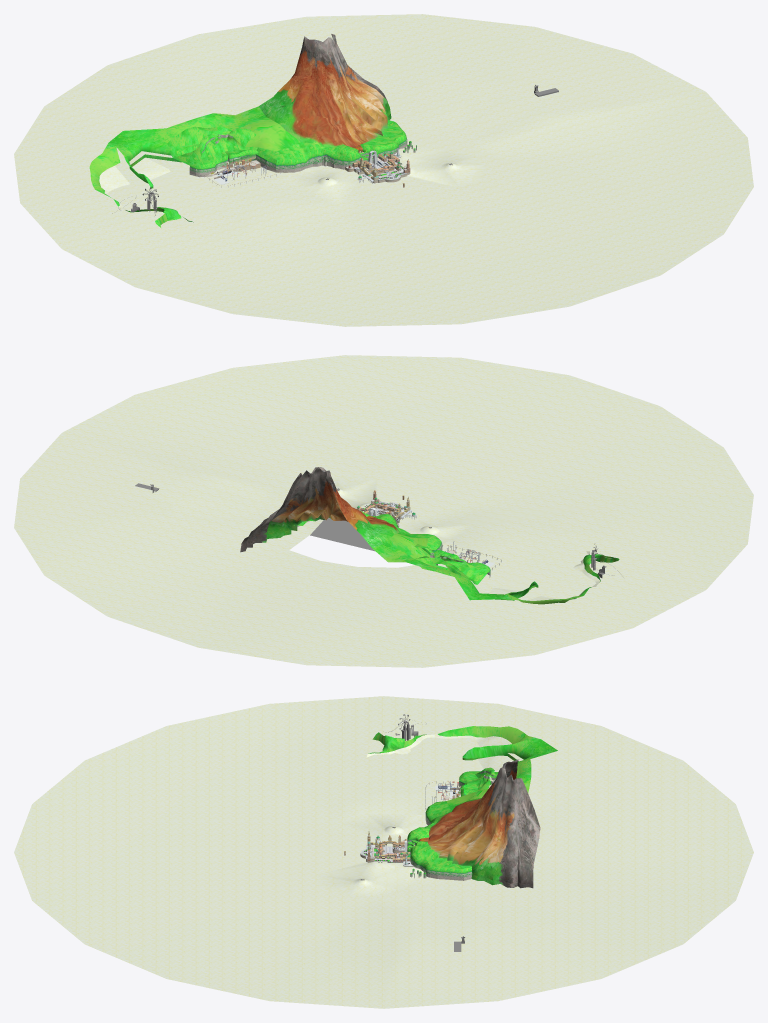
Rendered from dolpic9.dae.
3 views of the same model, one above another, from view 1: azimuth 30°, elevation 25°; view 2: azimuth 150°, elevation 25°; view 3: azimuth 270°, elevation 25° (orthographic).
Parts seen in each view (by area): view 1: n8b7, n25b9, n11b12, n22b0; view 2: n8b7, n11b12, n25b9, n28b18; view 3: n8b7, n11b12, n25b9.
Boxes of the visible parts, <box> form: n8b7: <box>14,14,753,326</box>; n25b9: <box>89,106,416,227</box>; n11b12: <box>259,34,391,152</box>; n22b0: <box>204,134,280,187</box>; n8b7: <box>14,355,753,667</box>; n11b12: <box>240,467,399,552</box>; n25b9: <box>293,511,619,604</box>; n28b18: <box>135,483,623,577</box>; n8b7: <box>14,696,753,1008</box>; n11b12: <box>419,759,540,888</box>; n25b9: <box>368,726,557,880</box>.
Size of the model in its own units: 251934 by 34208 by 251934.
Materials: 27 (26 with a texture image).
